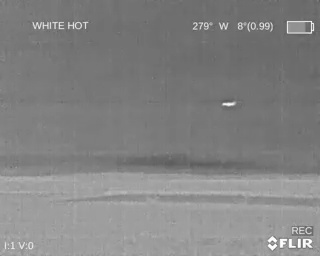AIRPLANE: (220, 98, 239, 110)
